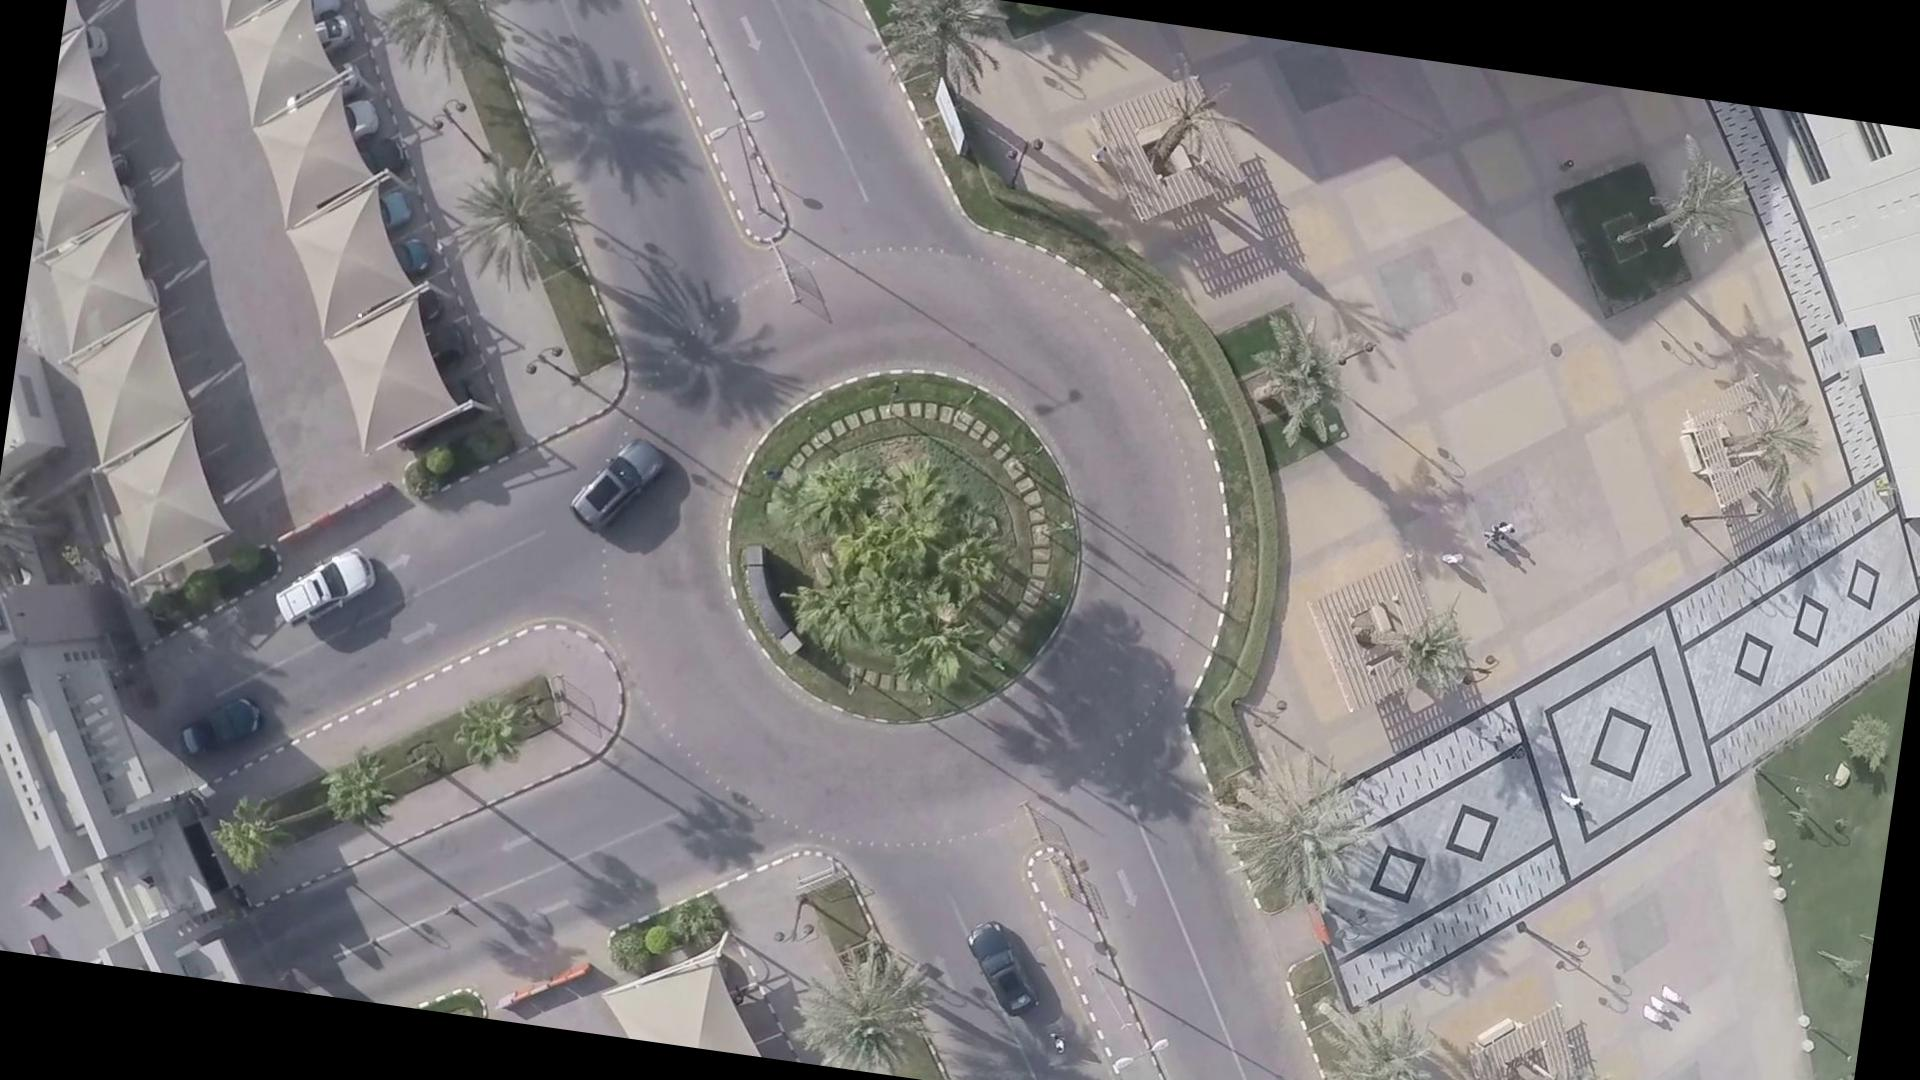vehicle: (556, 418, 683, 564), (270, 527, 394, 640), (949, 914, 1062, 1033), (164, 679, 287, 781)
